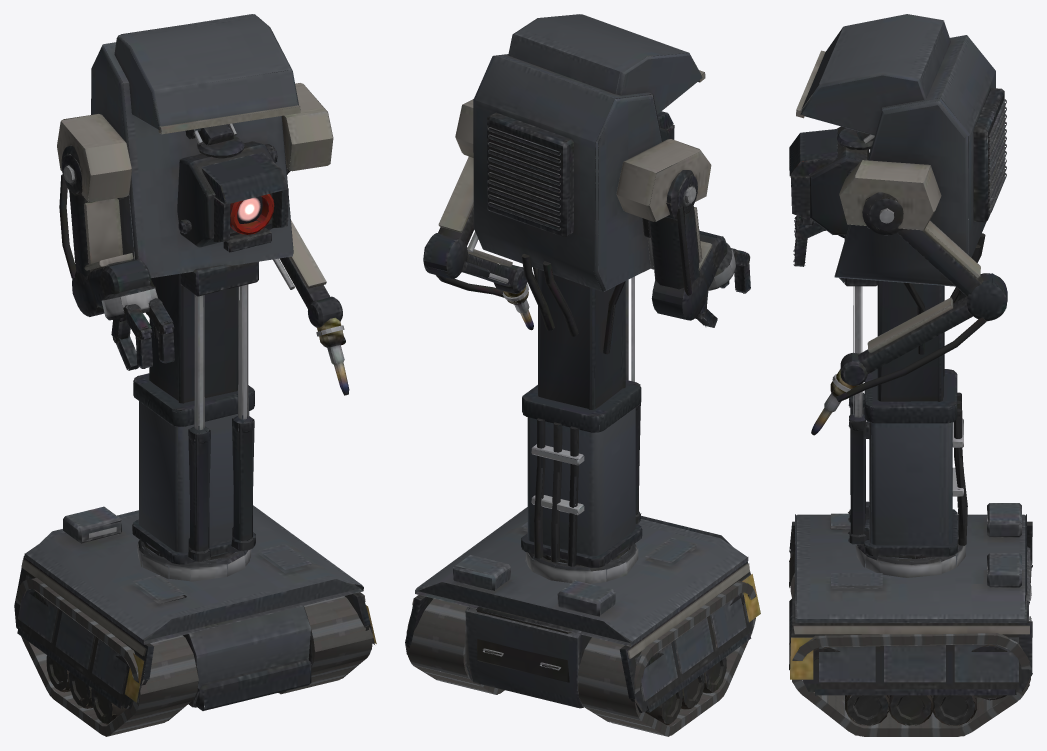
Rendered from warden.glb.
3 renders of one model, left to right at view 1: azimuth 30°, elevation 25°; view 2: azimuth 150°, elevation 25°; view 3: azimuth 270°, elevation 25°, orthographic. The views are drawn at different scales.
Parts seen in each view (by area): view 1: GEO_PIV_Torso_Lift_001, GEO_Chassis_001, GEO_PIV_Torso_Yaw_001, GEO_PIV_Head_Yaw_001, GEO_PIV_TreadR_001, GEO_PIV_ArmR_Shoulder_001, GEO_PIV_TreadL_001, GEO_PIV_ArmR_Wrist_001, GEO_PIV_ArmL_Elbow_001, GEO_PIV_ArmL_Wrist_001, GEO_PIV_ArmR_Elbow_001, GEO_PIV_Neck_Pitch_001 (+3 smaller); view 2: GEO_PIV_Torso_Lift_001, GEO_Chassis_001, GEO_PIV_Torso_Yaw_001, GEO_PIV_TreadR_001, GEO_PIV_ArmR_Shoulder_001, GEO_PIV_TreadL_001, GEO_PIV_ArmL_Elbow_001, GEO_PIV_ArmR_Elbow_001, GEO_PIV_ArmL_Shoulder_001, GEO_PIV_ArmR_Wrist_001, GEO_PIV_ArmL_Wrist_001, GEO_PIV_GrabberFinger_2_001; view 3: GEO_PIV_Torso_Lift_001, GEO_Chassis_001, GEO_PIV_Torso_Yaw_001, GEO_PIV_TreadL_001, GEO_PIV_ArmL_Elbow_001, GEO_PIV_Head_Yaw_001, GEO_PIV_ArmL_Shoulder_001, GEO_PIV_ArmL_Wrist_001, GEO_PIV_GrabberFinger_1_001, GEO_PIV_Neck_Pitch_001.
Part boxes in pixels (x1,y1,x2,y2): GEO_PIV_Torso_Lift_001: (57,14,333,440); GEO_Chassis_001: (14,505,376,724); GEO_PIV_Torso_Yaw_001: (132,373,255,581); GEO_PIV_Head_Yaw_001: (177,141,288,252); GEO_PIV_TreadR_001: (15,578,198,736); GEO_PIV_ArmR_Shoulder_001: (59,143,123,279); GEO_PIV_TreadL_001: (278,596,373,694); GEO_PIV_ArmR_Wrist_001: (100,259,158,320); GEO_PIV_ArmL_Elbow_001: (273,220,345,345); GEO_PIV_ArmL_Wrist_001: (308,296,349,395); GEO_PIV_ArmR_Elbow_001: (72,253,134,316); GEO_PIV_Neck_Pitch_001: (185,123,244,158); GEO_PIV_Torso_Lift_001: (455,14,711,418); GEO_Chassis_001: (405,507,760,725); GEO_PIV_Torso_Yaw_001: (521,378,642,583); GEO_PIV_TreadR_001: (577,581,756,736); GEO_PIV_ArmR_Shoulder_001: (642,163,702,298); GEO_PIV_TreadL_001: (406,598,504,694); GEO_PIV_ArmL_Elbow_001: (423,233,516,297); GEO_PIV_ArmR_Elbow_001: (651,241,717,320); GEO_PIV_ArmL_Shoulder_001: (438,156,478,252); GEO_PIV_ArmR_Wrist_001: (699,230,735,290); GEO_PIV_ArmL_Wrist_001: (494,264,533,330); GEO_PIV_GrabberFinger_2_001: (729,248,750,293); GEO_PIV_Torso_Lift_001: (796,14,1006,420); GEO_Chassis_001: (789,503,1032,725); GEO_PIV_Torso_Yaw_001: (848,369,967,577); GEO_PIV_TreadL_001: (789,633,1031,736); GEO_PIV_ArmL_Elbow_001: (836,273,1007,402); GEO_PIV_Head_Yaw_001: (789,126,870,234); GEO_PIV_ArmL_Shoulder_001: (862,192,986,296); GEO_PIV_ArmL_Wrist_001: (811,352,867,435); GEO_PIV_GrabberFinger_1_001: (793,221,826,266); GEO_PIV_Neck_Pitch_001: (837,128,874,150).
Bounding box in the file's own units: 1.02 × 2.6 × 0.9002.
Materials: 4 (4 with a texture image).
